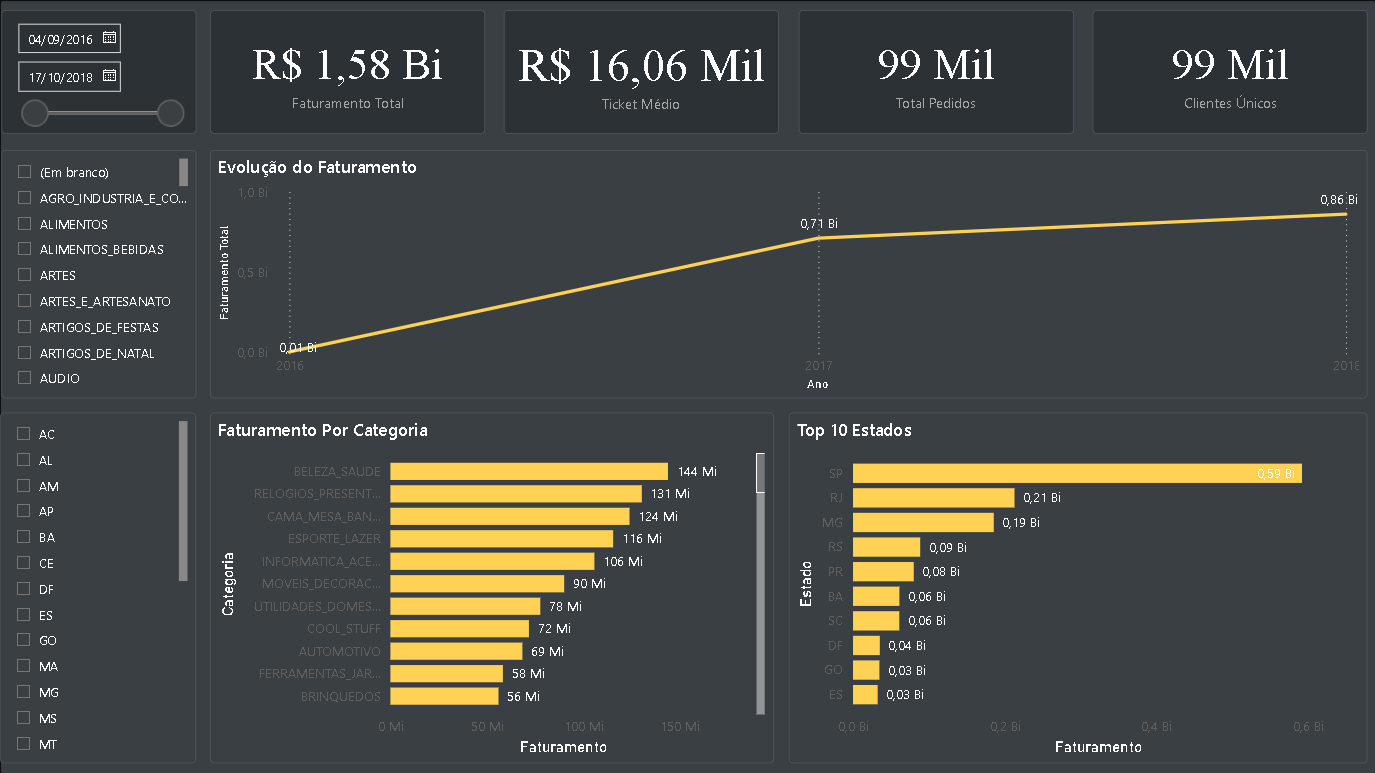

This screenshot's page, from the dashboard's own definition file:
{"tool":"powerbi","page":{"name":"Dashboard de Análise de vendas","canvas":[1280,720],"ordinal":0},"visuals":[{"type":"card","fields":{"Values":["Medidas.Faturamento Total"]},"box":[195.3,9.3,255.8,115.1],"z":0},{"type":"card","fields":{"Values":["Medidas.Clientes Únicos"]},"box":[1016.3,9.3,255.8,115.1],"z":1000},{"type":"card","fields":{"Values":["Medidas.Total Pedidos"]},"box":[743,9.3,255.8,115.1],"z":2000},{"type":"card","fields":{"Values":["Medidas.Ticket Médio"]},"box":[468.6,9.3,255.8,115.1],"z":3000},{"type":"lineChart","title":"Evolução do Faturamento","fields":{"Category":["dw dim_data.data.Variation.Hierarquia de datas.Ano","dw dim_data.data.Variation.Hierarquia de datas.Trimestre","dw dim_data.data.Variation.Hierarquia de datas.Mês","dw dim_data.data.Variation.Hierarquia de datas.Dia"],"Y":["Medidas.Faturamento Total"]},"box":[195.3,139.5,1076.7,231.4],"z":4000},{"type":"barChart","title":"Faturamento Por Categoria","fields":{"Category":["dw dim_produto.product_category_name"],"Y":["Medidas.Faturamento Total"]},"box":[195.3,383.7,524.4,326.7],"z":5000},{"type":"barChart","title":"Top 10 Estados","fields":{"Category":["dw dim_cliente.customer_state"],"Y":["Medidas.Faturamento Total"]},"box":[733.7,383.7,538.4,326.7],"z":6000},{"type":"slicer","fields":{"Values":["dw dim_cliente.customer_state"]},"box":[0,383.7,182.6,326.7],"z":7000},{"type":"slicer","fields":{"Values":["dw dim_data.data"]},"box":[1.2,9.3,181.4,115.1],"z":8000},{"type":"slicer","fields":{"Values":["dw dim_produto.product_category_name"]},"box":[1.2,139.5,181.4,231.4],"z":9000}]}

Visuals, with their boxes in screenshot pixels (x1, y1, x2, y2), scaled from the page's 1280x720 canvas onto the 1375x773 screenshot:
card - Medidas.Faturamento Total: [210,10,485,134]
card - Medidas.Clientes Únicos: [1092,10,1367,134]
card - Medidas.Total Pedidos: [798,10,1073,134]
card - Medidas.Ticket Médio: [503,10,778,134]
"Evolução do Faturamento" lineChart: [210,150,1366,398]
"Faturamento Por Categoria" barChart: [210,412,773,763]
"Top 10 Estados" barChart: [788,412,1367,763]
slicer - dw dim_cliente.customer_state: [0,412,196,763]
slicer - dw dim_data.data: [1,10,196,134]
slicer - dw dim_produto.product_category_name: [1,150,196,398]
